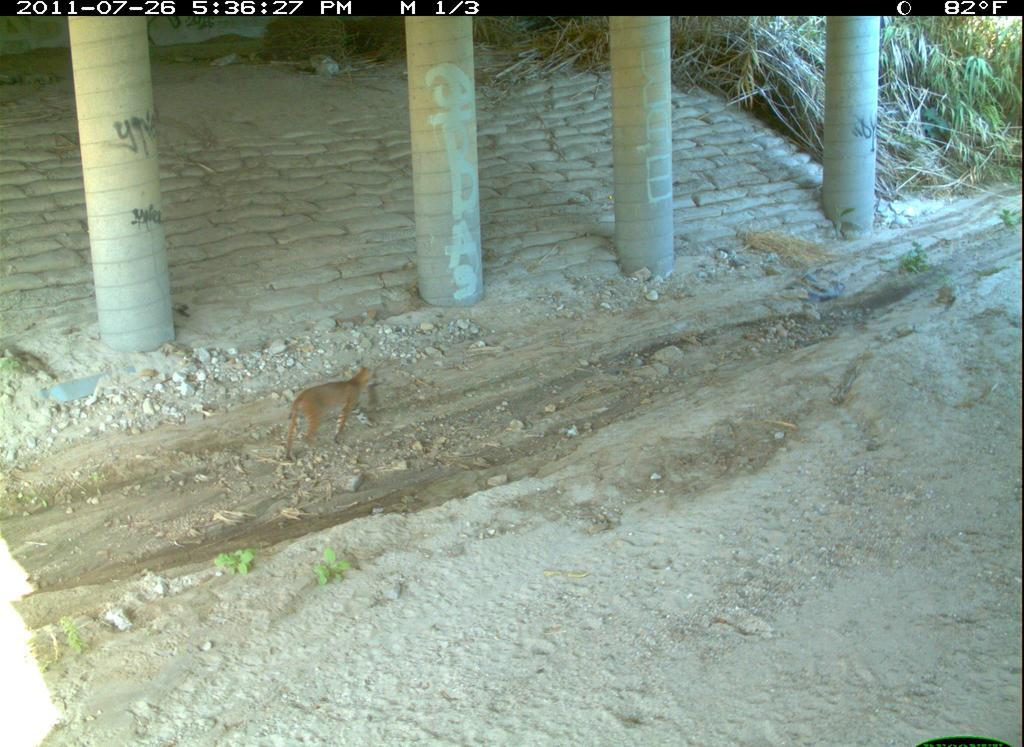bobcat: (554, 710, 774, 747)
